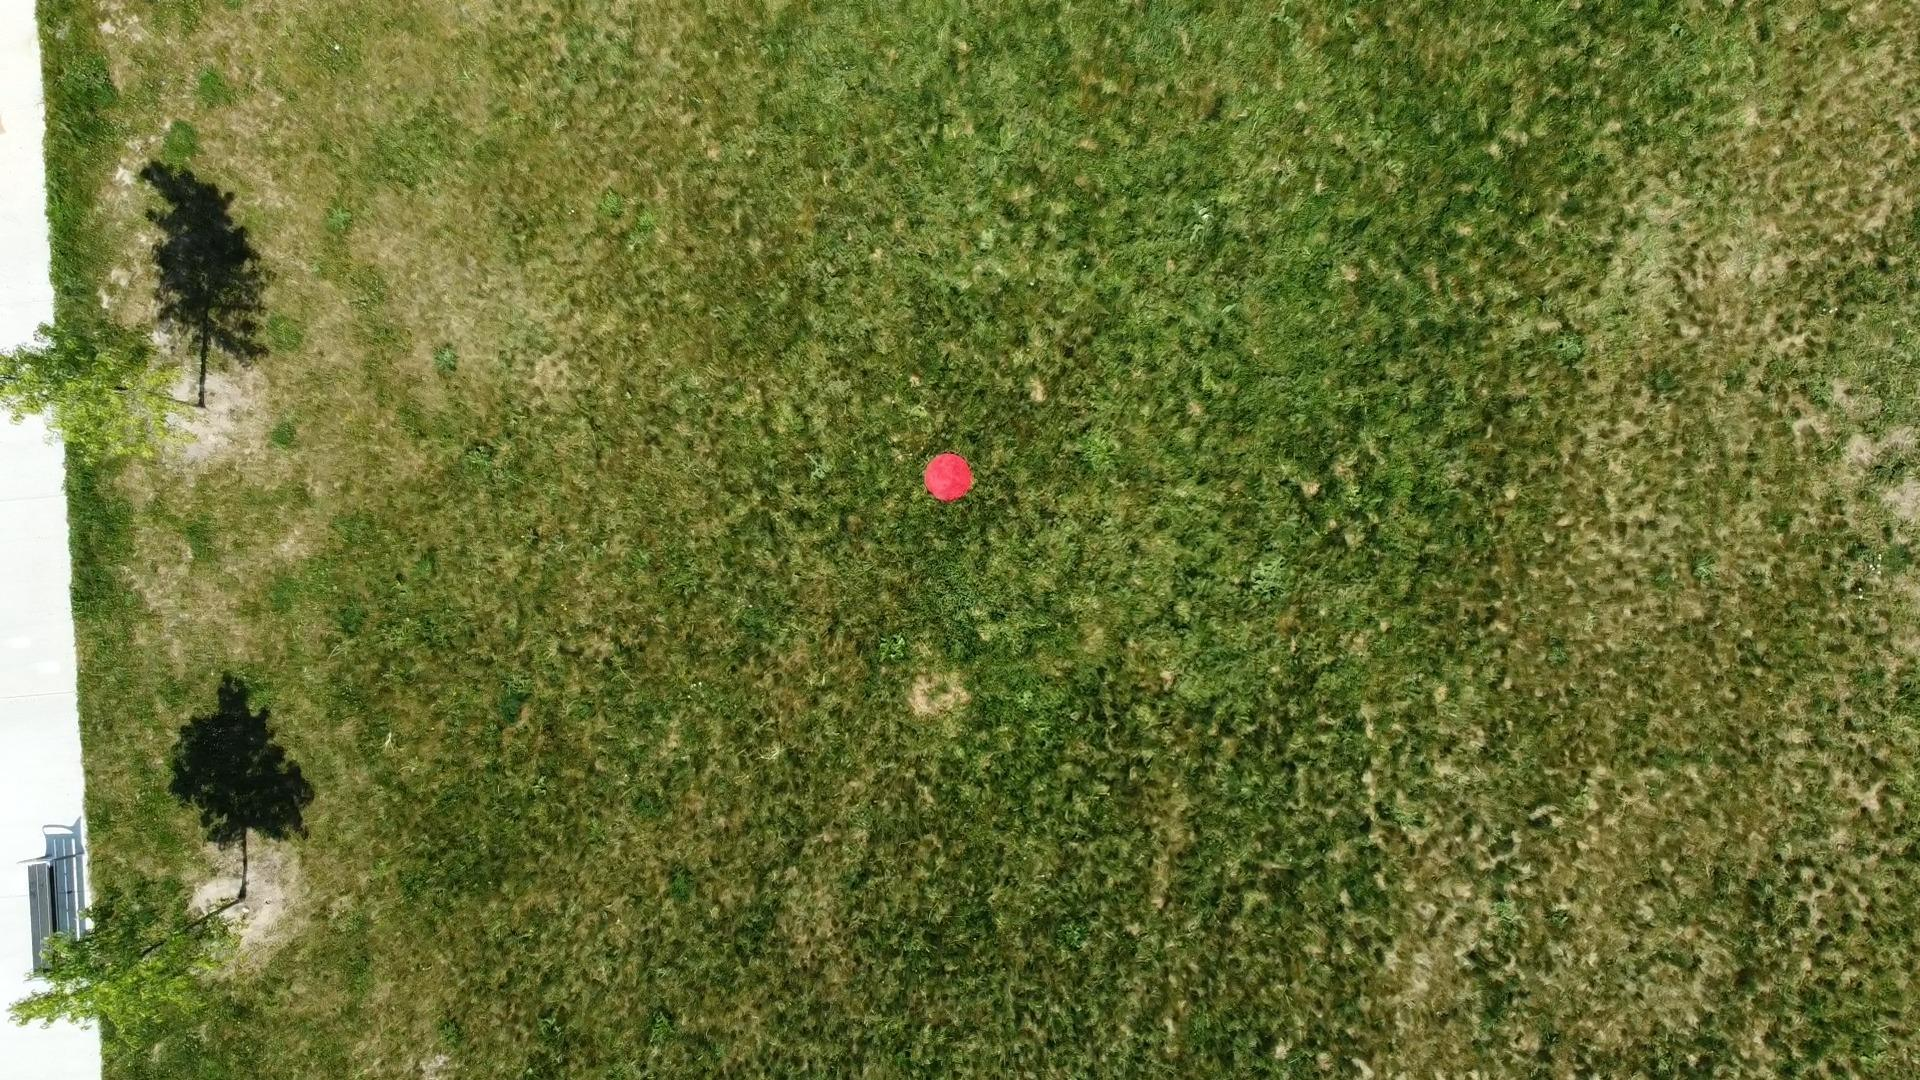Red: (924, 451, 975, 505)
